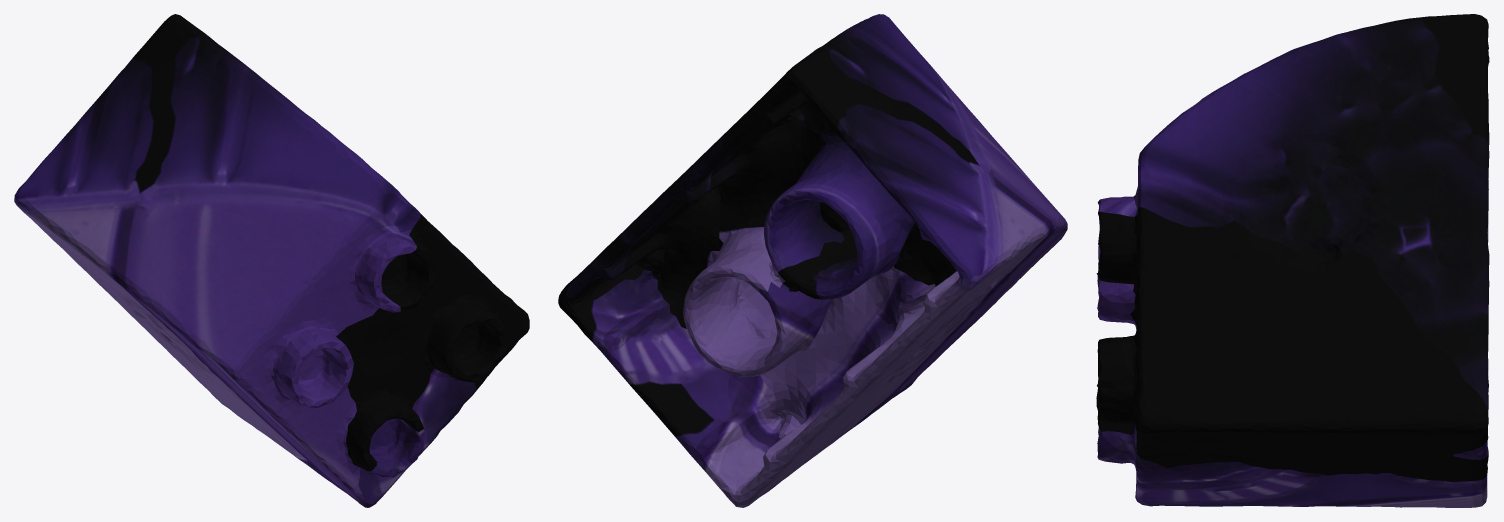
The picture shows the model from 3 angles, left to right: view 1: azimuth 30°, elevation 25°; view 2: azimuth 150°, elevation 25°; view 3: azimuth 270°, elevation 25°; orthographic projection. The views are drawn at different scales.
Parts seen in each view (by area): view 1: node; view 2: node; view 3: node.
Boxes of the visible parts, x1=… form: node: x1=14, y1=14, x2=529, y2=507; node: x1=558, y1=14, x2=1067, y2=507; node: x1=1096, y1=14, x2=1489, y2=507.
Bounding box in the file's own units: 0.0545 × 0.0562 × 0.0431.
